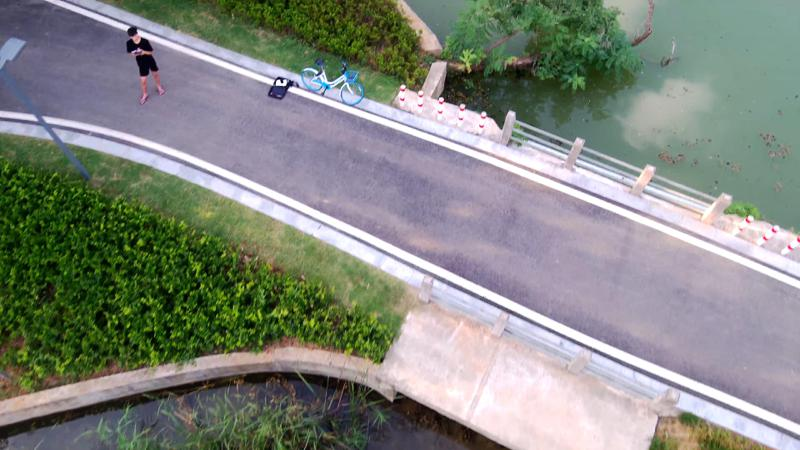passerby: (124, 25, 165, 105)
